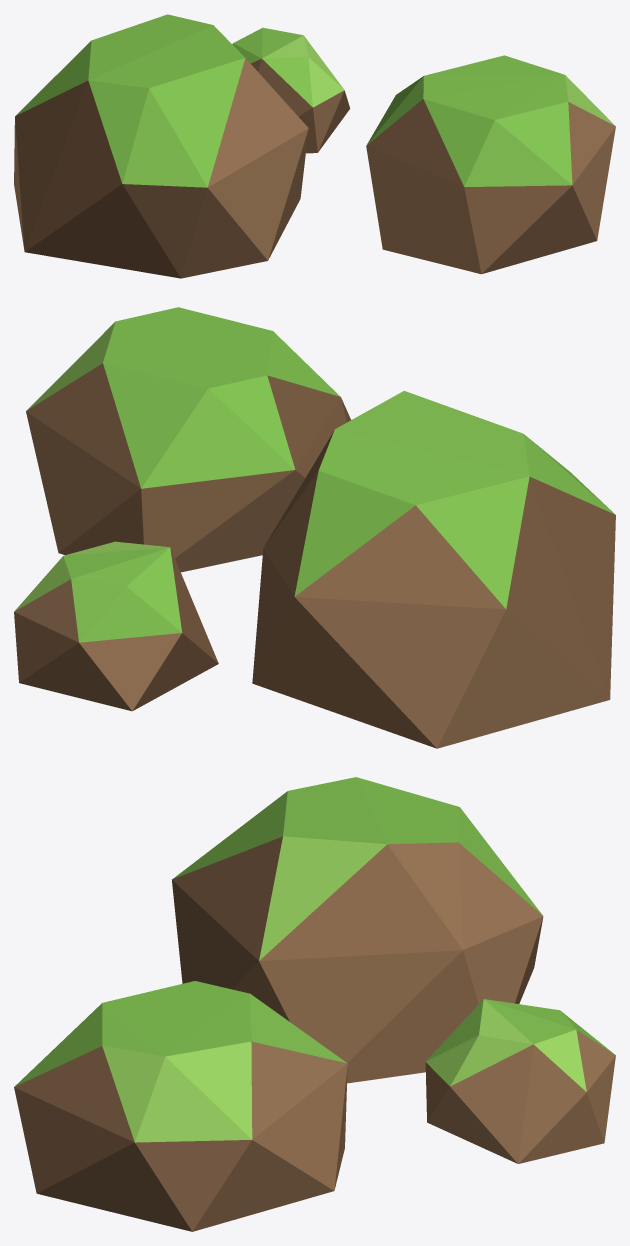
File: rock_largeC.glb
3 views of the same model, one above another, from view 1: azimuth 30°, elevation 25°; view 2: azimuth 150°, elevation 25°; view 3: azimuth 270°, elevation 25° (orthographic). The views are drawn at different scales.
Visible parts, largest first — view 1: rock_largeC; view 2: rock_largeC; view 3: rock_largeC.
Part boxes in pixels (left/top/right/bottom): rock_largeC: left=14, top=14, right=615, bottom=278; rock_largeC: left=14, top=307, right=615, bottom=748; rock_largeC: left=14, top=777, right=615, bottom=1231.
Size of the model in its own units: 0.987 by 0.3181 by 0.8347.
1 material, 1 textured.
